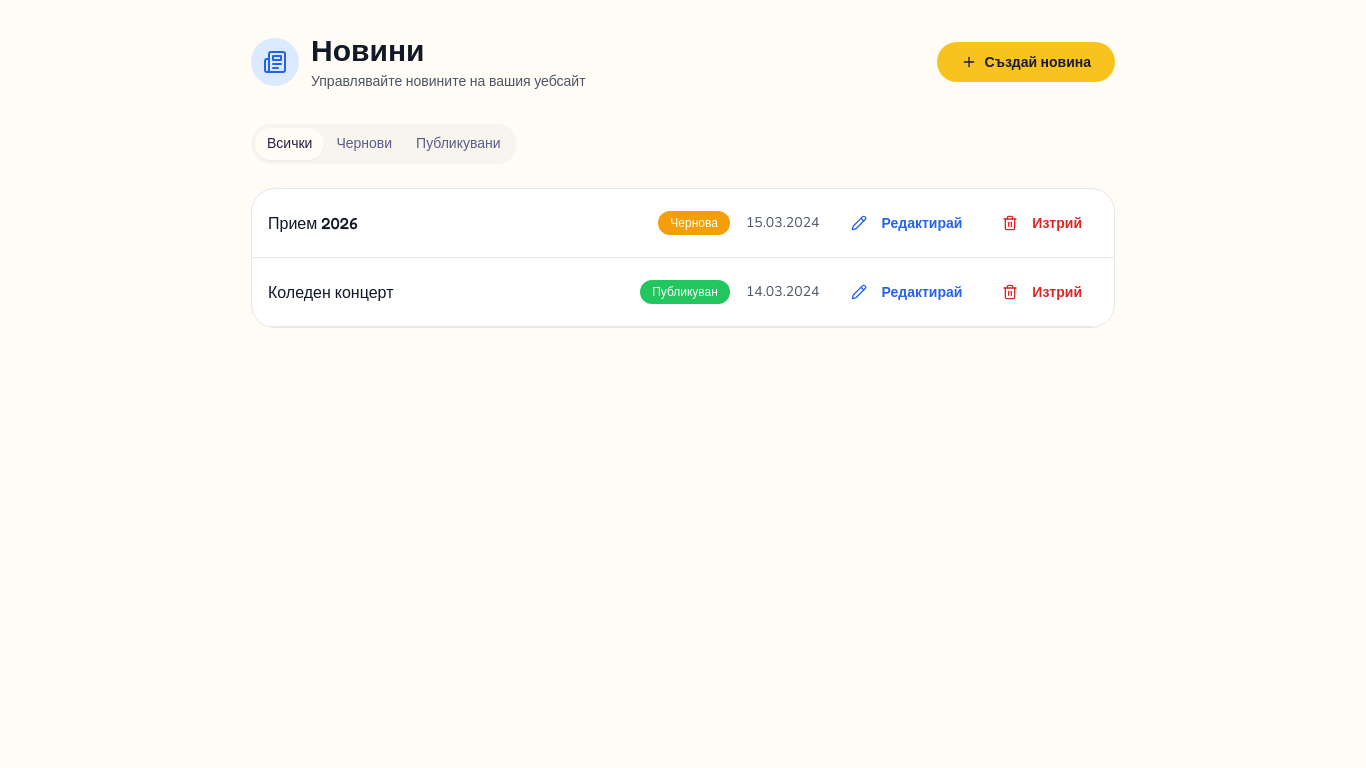
NewsList › Navigation and Actions › opens delete confirmation dialog when Delete button is clicked
The width and height of the screenshot is (1366, 768).
Note: Click Delete button for first item
Click the button "Изтрий" in the row of "15.03.2024" at (1042, 223), box [986,205,1098,241]
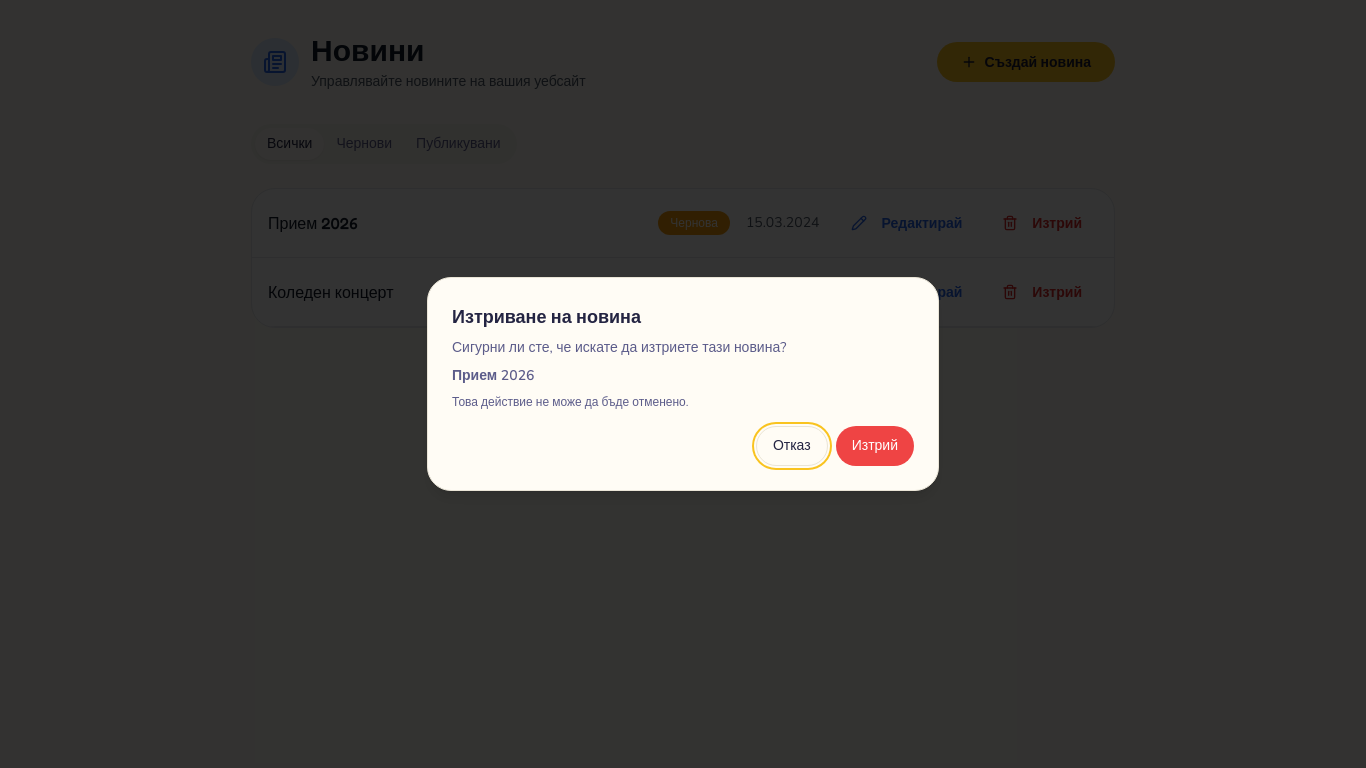
Check: the heading "Изтриване на новина" is shown, box [452,305,641,327]
Check: the text "Сигурни ли сте" is shown, box [452,338,786,357]
